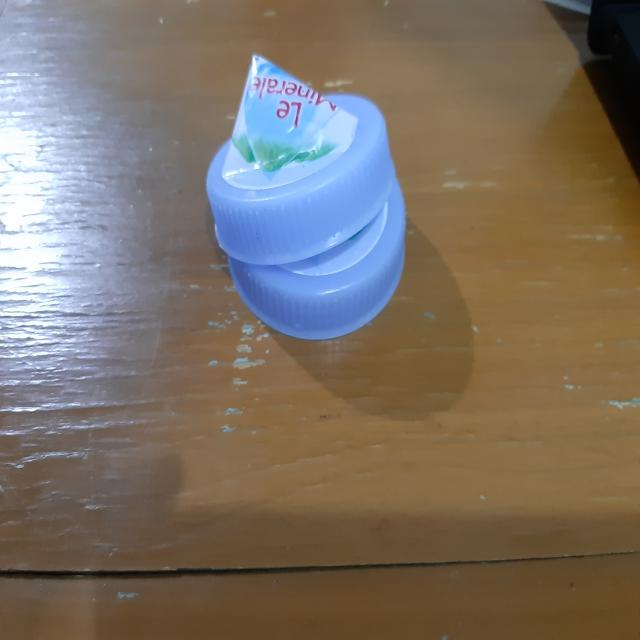TutupGalon: (204, 53, 408, 341)
